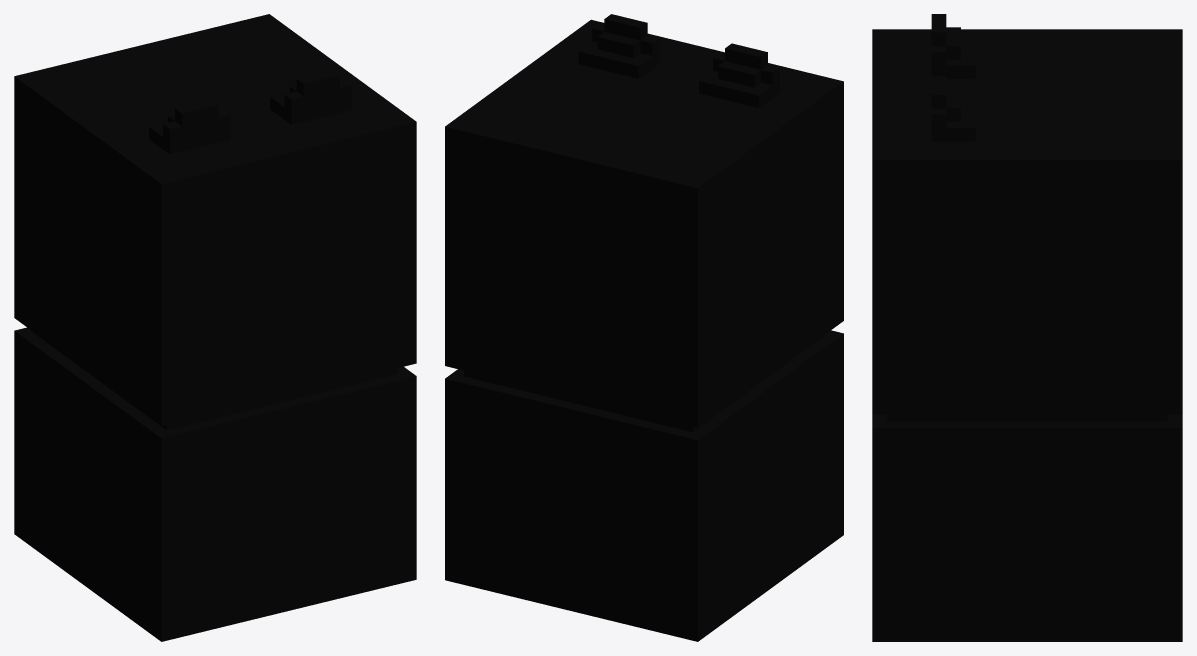
File: panda.obj
The picture shows the model from 3 angles, left to right: view 1: azimuth 30°, elevation 25°; view 2: azimuth 150°, elevation 25°; view 3: azimuth 270°, elevation 25°; orthographic projection. The views are drawn at different scales.
Parts seen in each view (by area): view 1: panda.003; view 2: panda.003; view 3: panda.003.
Part boxes in pixels (x1=…): panda.003: x1=14, y1=14, x2=416, y2=641; panda.003: x1=445, y1=14, x2=843, y2=641; panda.003: x1=872, y1=14, x2=1182, y2=641.
Size of the model in its own units: 2.1 by 3.9 by 2.1.
